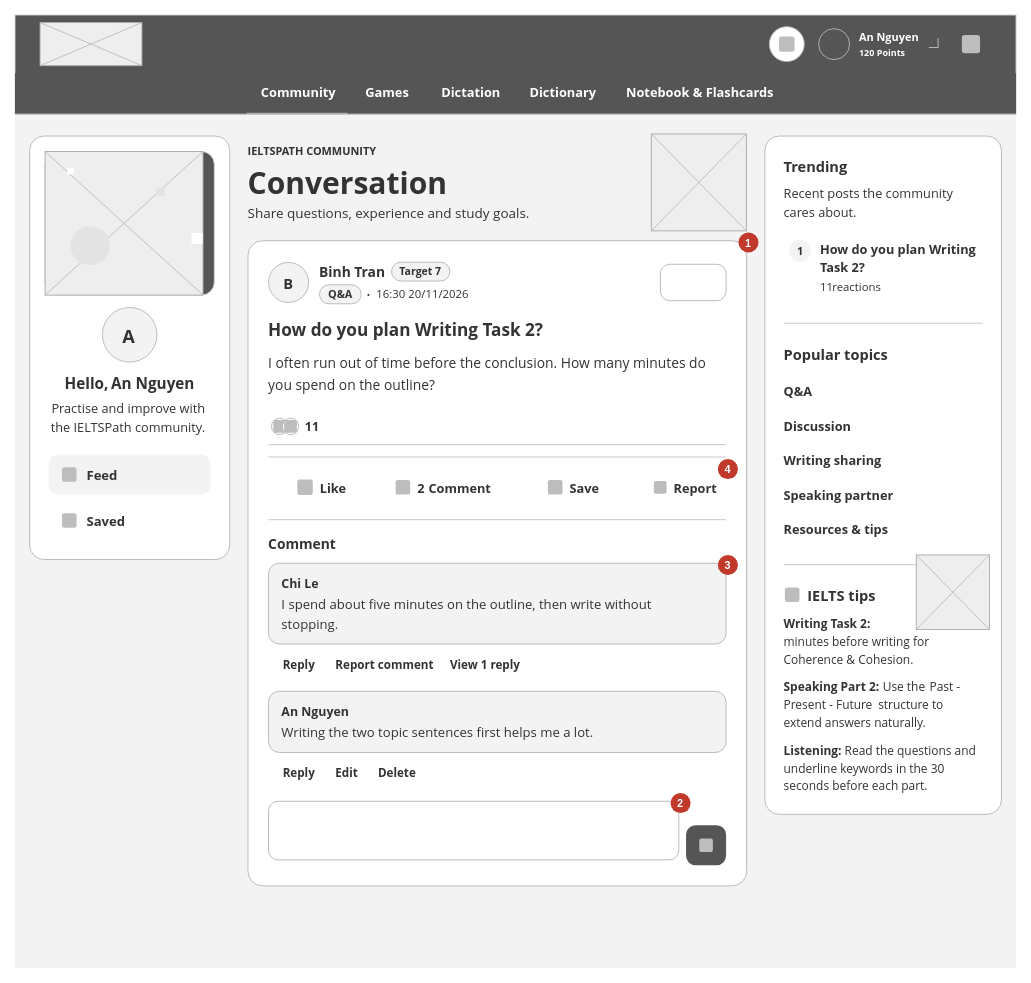
Image size: 1031x983. Some labels were removed from this diagram. The shapes that lost their labels are listed below. From the top down, each one's box as (x1, y1, x2, y2) in pixels, then its label:
(818, 28, 850, 60): AN
(659, 263, 726, 301): Follow
(915, 554, 989, 629): Outline for 5
(268, 800, 679, 860): Write a comment...
